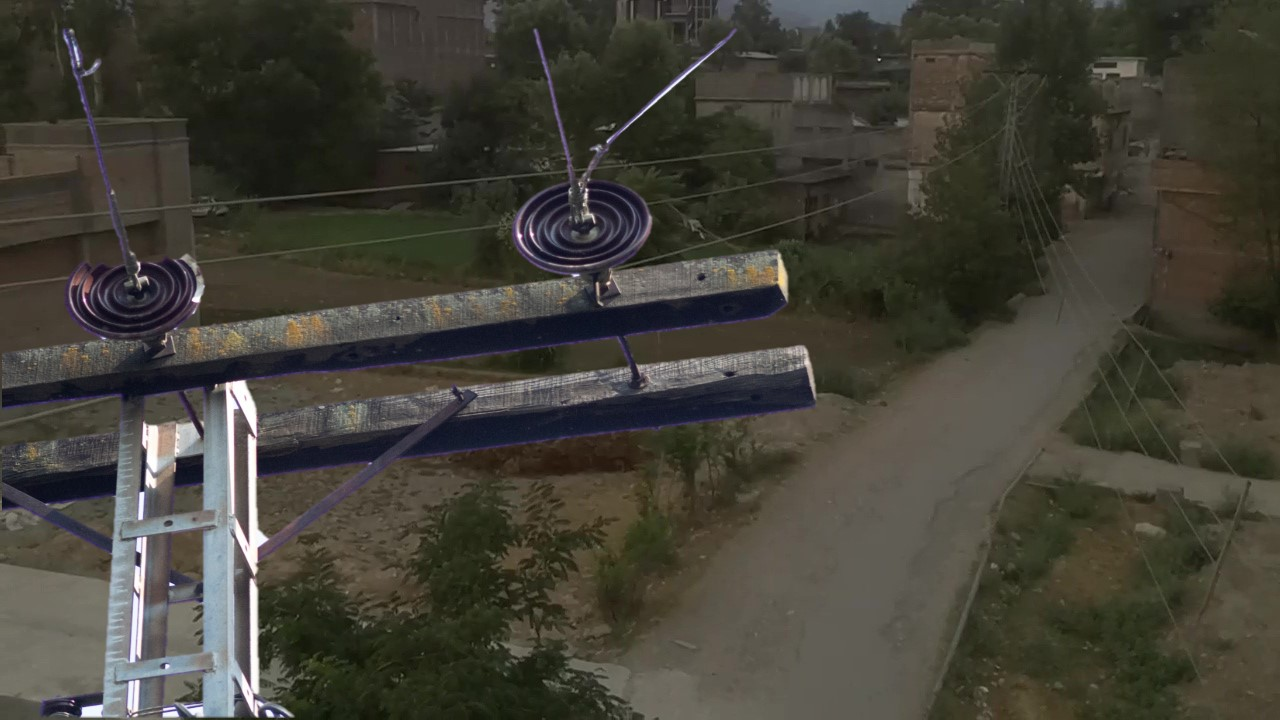defect_disc: (65, 243, 220, 345)
insulator_disc: (504, 166, 661, 281)
